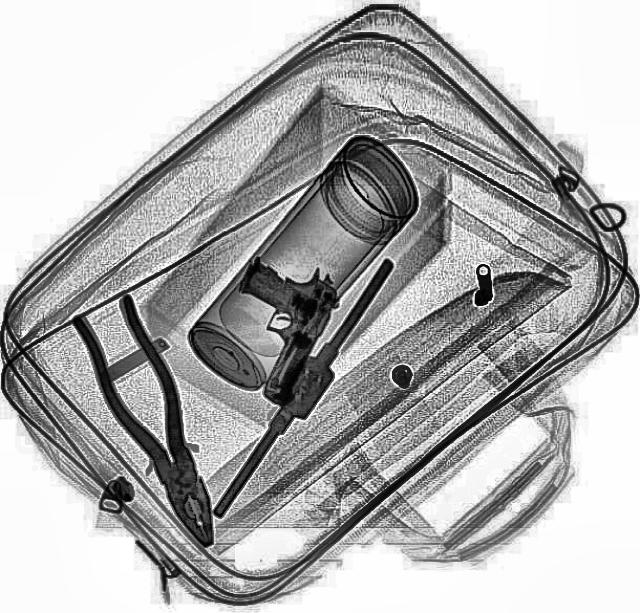Gun: (193, 244, 349, 408)
Pliers: (64, 292, 246, 558)
